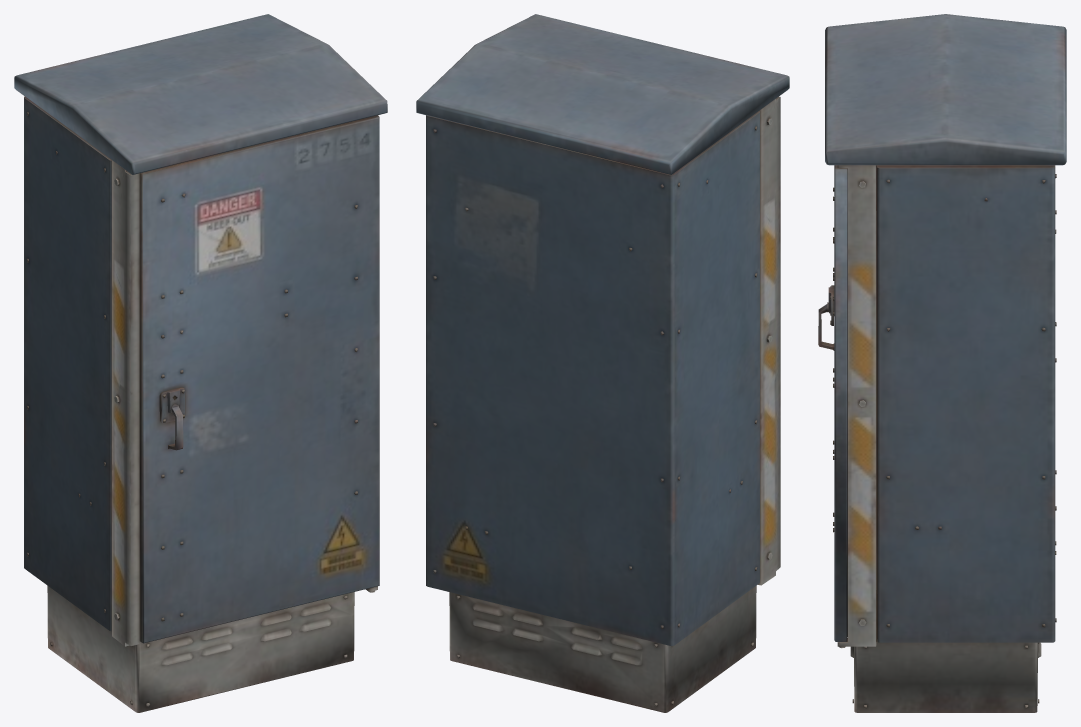
File: cabinet_tall.glb
The picture shows the model from 3 angles, left to right: view 1: azimuth 30°, elevation 25°; view 2: azimuth 150°, elevation 25°; view 3: azimuth 270°, elevation 25°; orthographic projection.
Visible parts, largest first — view 1: utility_box_01_box; view 2: utility_box_01_box; view 3: utility_box_01_box.
Boxes of the visible parts, x1,y1,x2,y2 form: utility_box_01_box: (14,14,387,712); utility_box_01_box: (416,14,789,712); utility_box_01_box: (818,14,1066,712).
Bounding box in the file's own units: 0.52 × 1.12 × 0.432.
1 material, 1 textured.
